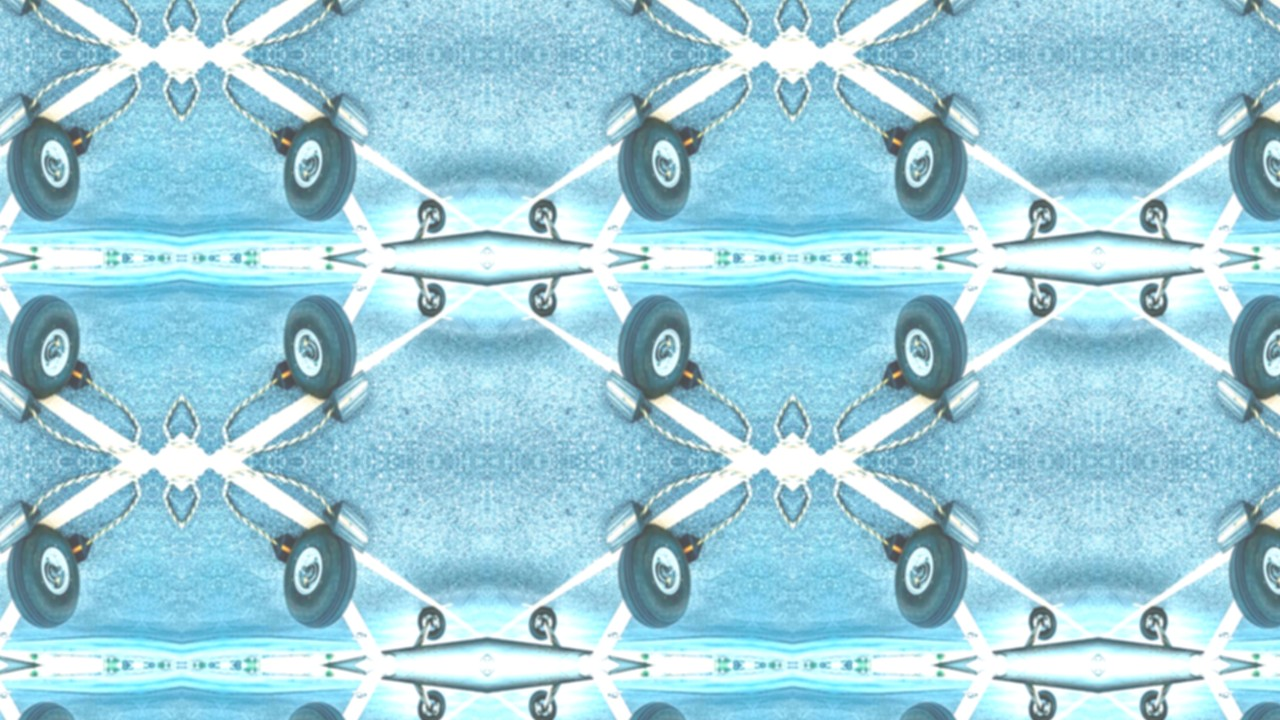chock: (320, 91, 374, 151), (600, 91, 654, 151), (932, 91, 986, 151), (1212, 91, 1266, 151), (320, 365, 374, 425), (600, 365, 654, 425), (932, 365, 986, 425), (1212, 365, 1266, 425), (320, 499, 374, 559), (600, 499, 654, 559), (932, 499, 986, 559), (1212, 499, 1266, 559), (0, 91, 42, 151), (0, 365, 42, 425), (0, 499, 42, 559), (58, 125, 93, 160), (269, 125, 304, 160), (670, 125, 705, 160), (881, 125, 916, 160), (58, 356, 93, 391), (269, 356, 304, 391), (670, 356, 705, 391), (881, 356, 916, 391), (58, 533, 93, 568), (269, 533, 304, 568), (670, 533, 705, 568), (881, 533, 916, 568), (320, 0, 374, 17), (600, 0, 654, 17), (932, 0, 986, 17), (1212, 0, 1266, 17), (0, 0, 42, 17)
wheel: (1, 115, 85, 224), (277, 115, 361, 224), (613, 115, 697, 224), (889, 115, 973, 224), (1, 292, 85, 401), (277, 292, 361, 401), (613, 292, 697, 401), (889, 292, 973, 401), (1, 523, 85, 632), (277, 523, 361, 632), (613, 523, 697, 632), (889, 523, 973, 632), (1225, 115, 1280, 224), (1225, 292, 1280, 401), (1225, 523, 1280, 632), (1, 700, 85, 720), (277, 700, 361, 720), (613, 700, 697, 720), (889, 700, 973, 720), (416, 198, 448, 236), (526, 198, 558, 236), (1028, 198, 1060, 236), (1138, 198, 1170, 236), (416, 280, 448, 318), (526, 280, 558, 318), (1028, 280, 1060, 318), (1138, 280, 1170, 318), (416, 606, 448, 644), (526, 606, 558, 644), (1028, 606, 1060, 644), (1138, 606, 1170, 644), (1225, 700, 1280, 720), (416, 688, 448, 720), (526, 688, 558, 720), (1028, 688, 1060, 720), (1138, 688, 1170, 720)
